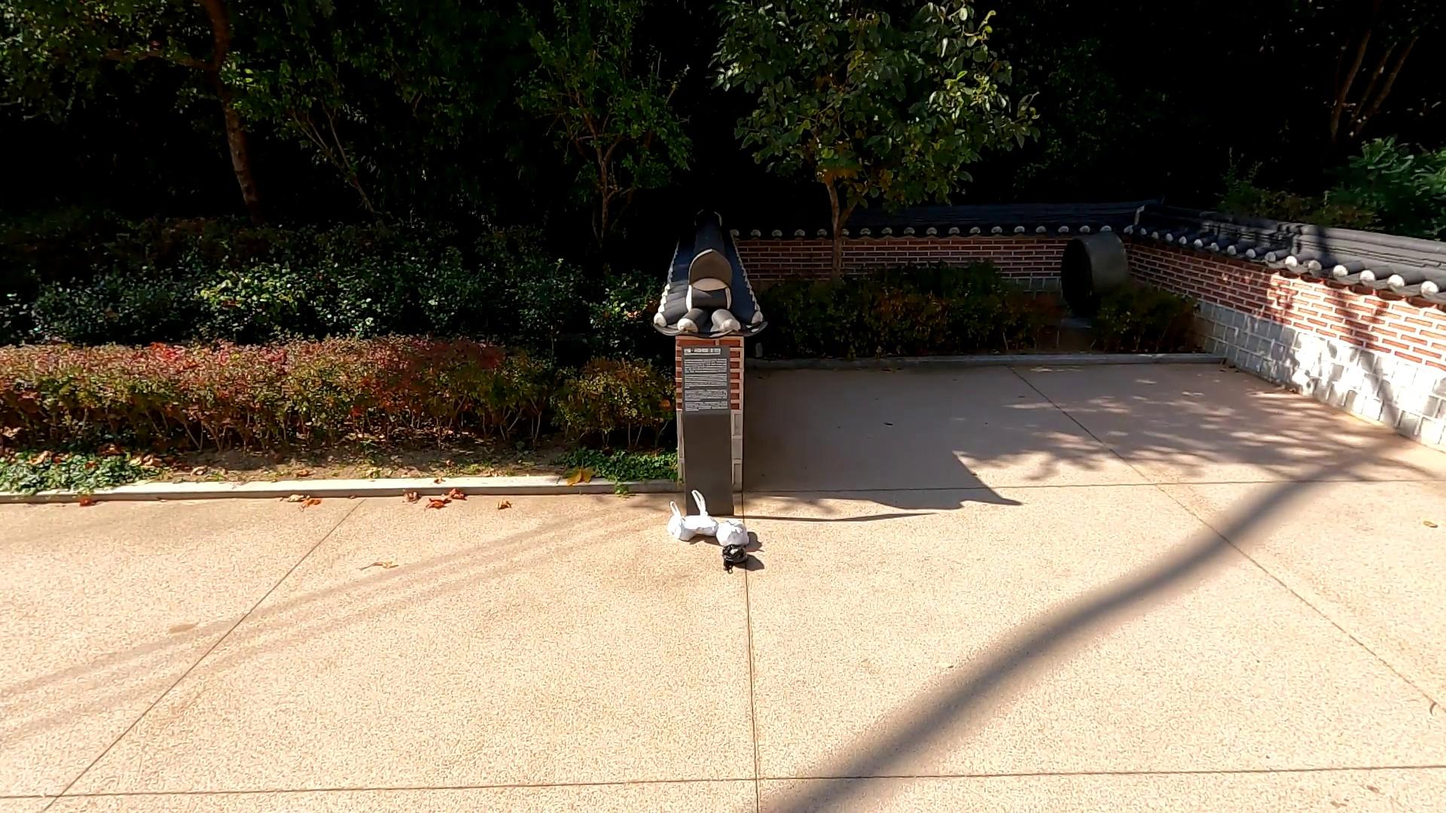trash: (674, 490, 723, 540), (715, 511, 753, 547), (713, 541, 756, 572), (667, 498, 696, 541)
